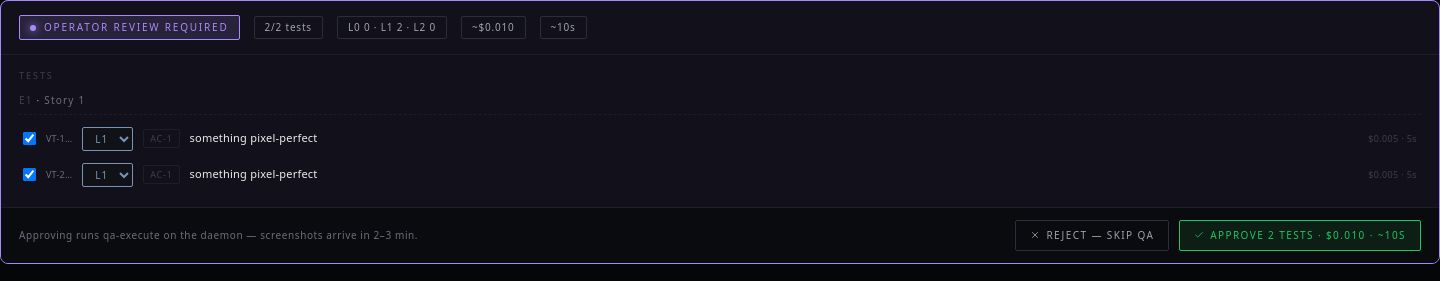
Test: ContractGate — pending state › approve is disabled when all tests are excluded
Click the checkbox named "Include VT-1" at [30, 138], box [23, 132, 36, 145]
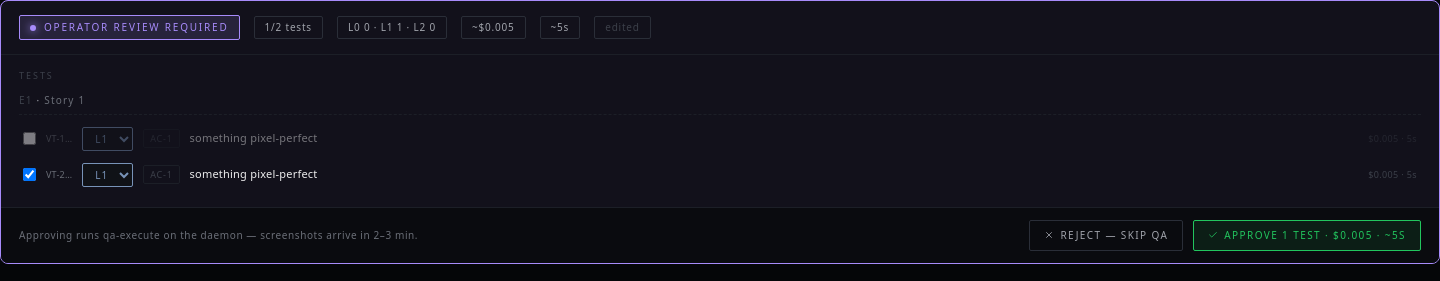
Click the checkbox named "Include VT-2" at [30, 174], box [23, 168, 36, 181]
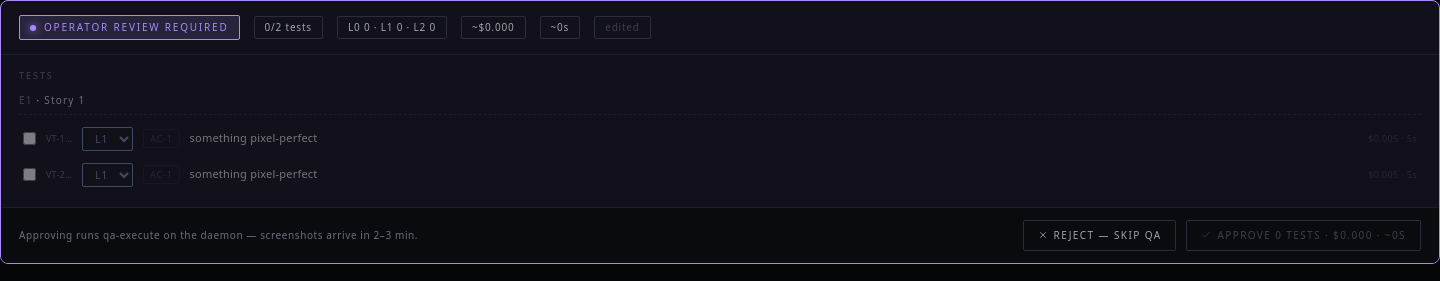
Expected: the button "Approve 0 tests · $0.000 · ~0s" is disabled, [1186, 220, 1421, 250]
